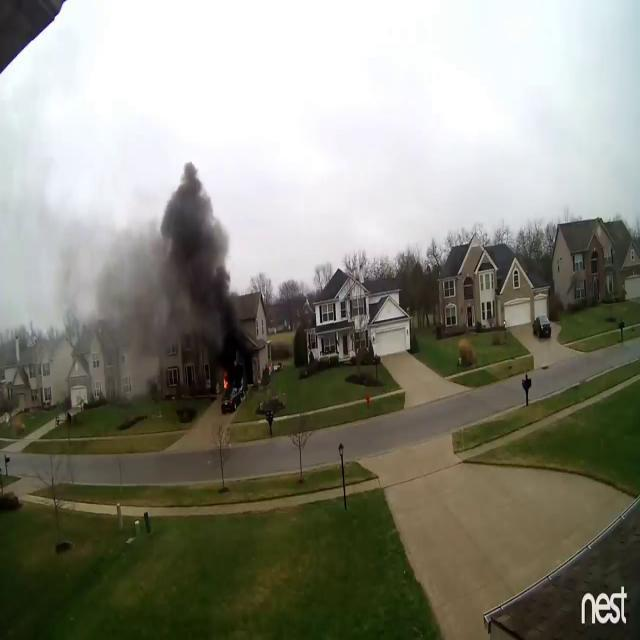Fire: (220, 370, 230, 393)
Smoke: (70, 146, 239, 370)
